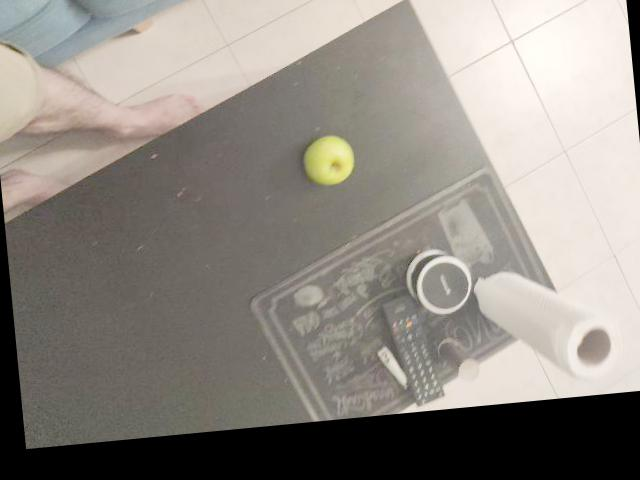apple: (384, 61, 441, 128)
